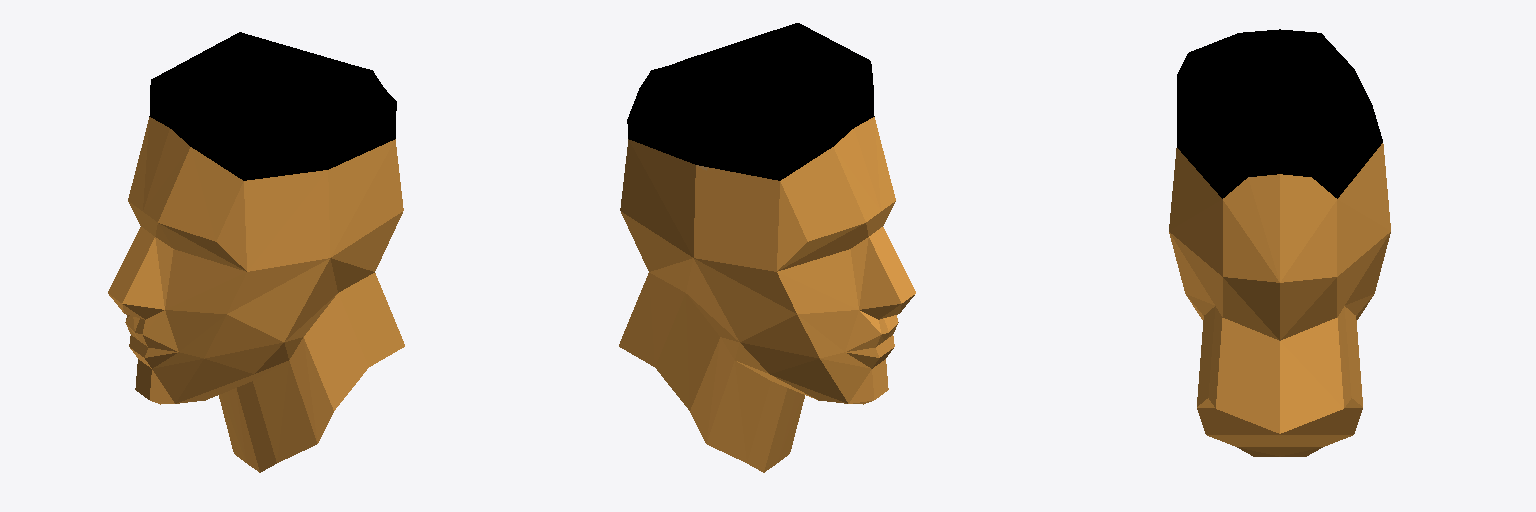
The picture shows the model from 3 angles: view 1: azimuth 30°, elevation 25°; view 2: azimuth 150°, elevation 25°; view 3: azimuth 270°, elevation 25°; orthographic projection.
Parts seen in each view (by area): view 1: Plane.011_Plane.022; view 2: Plane.011_Plane.022; view 3: Plane.011_Plane.022.
Boxes of the visible parts, box(x1,y1,x2,y2) form: Plane.011_Plane.022: box(108, 32, 404, 472); Plane.011_Plane.022: box(619, 23, 915, 472); Plane.011_Plane.022: box(1169, 29, 1390, 456).
Size of the model in its own units: 3.96 by 5.5 by 2.7.
Materials: 1 (1 with a texture image).